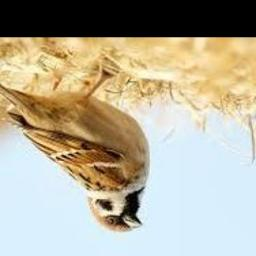Sparrow: (0, 70, 148, 231)
